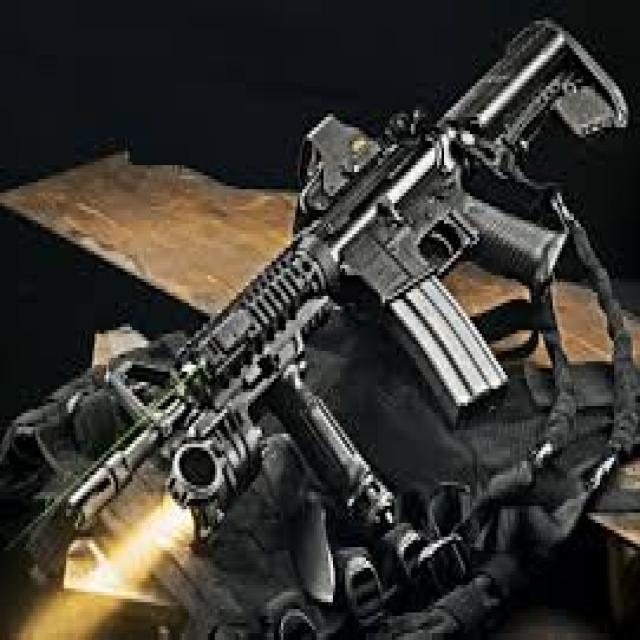m16: (20, 31, 632, 546)
